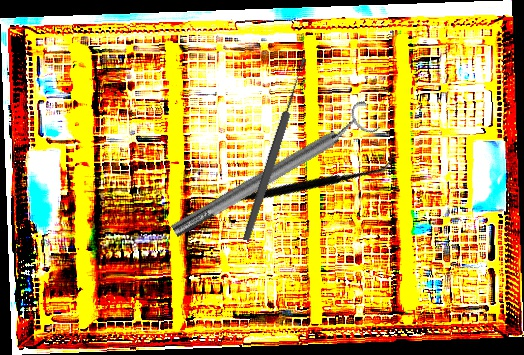Fixation Ring: (163, 98, 383, 247)
Spatula Surgical: (205, 90, 395, 280)
Surgical Spoon: (240, 56, 311, 243)
